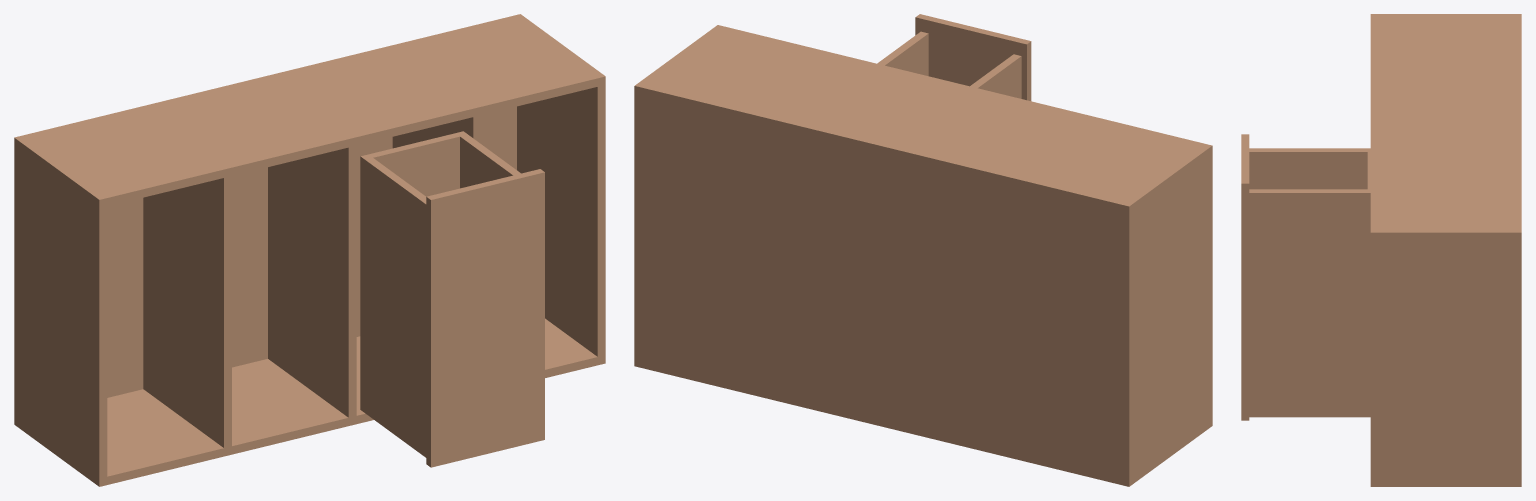
File: meuble_690c950fef914.glb
The picture shows the model from 3 angles, left to right: view 1: azimuth 30°, elevation 25°; view 2: azimuth 150°, elevation 25°; view 3: azimuth 270°, elevation 25°; orthographic projection. The views are drawn at different scales.
Parts seen in each view (by area): view 1: world; view 2: world; view 3: world.
Boxes of the visible parts, x1,y1,x2,y2 form: world: (14,14,605,486); world: (634,14,1212,486); world: (1241,14,1521,486).
Size of the model in its own units: 1.2 by 0.65 by 0.65.
